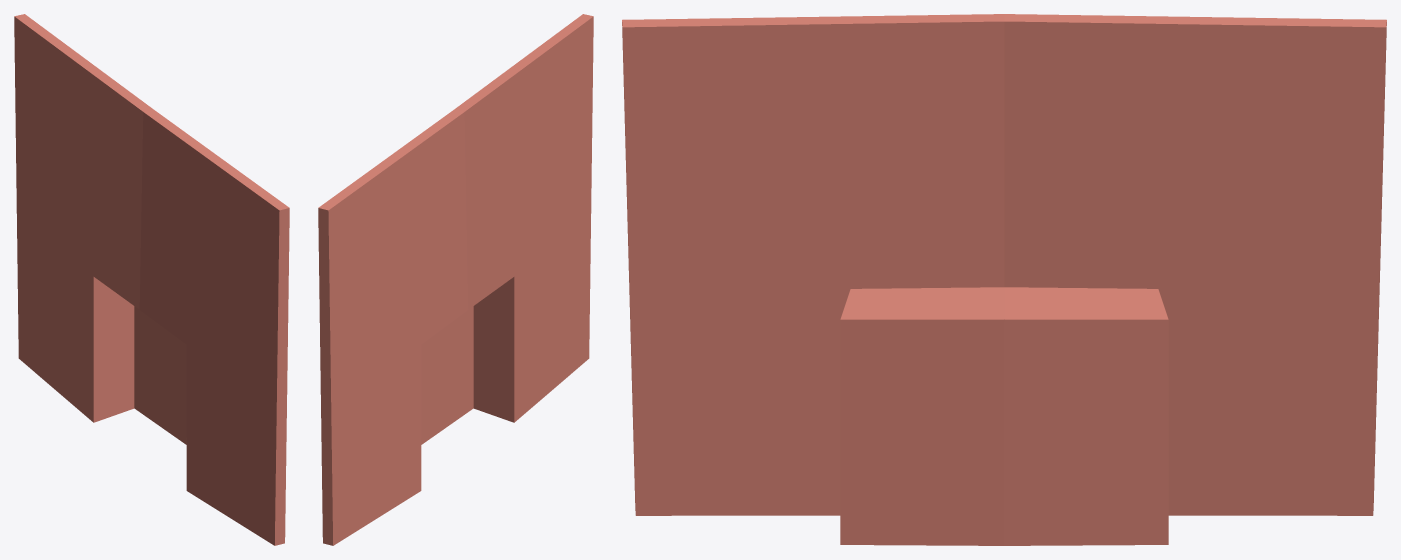
File: window main.fbx
3 renders of one model, left to right at view 1: azimuth 30°, elevation 25°; view 2: azimuth 150°, elevation 25°; view 3: azimuth 270°, elevation 25°, orthographic. The views are drawn at different scales.
Parts seen in each view (by area): view 1: main build.001; view 2: main build.001; view 3: main build.001.
Part boxes in pixels (bbox=[...]): main build.001: bbox=[14, 14, 289, 545]; main build.001: bbox=[318, 14, 593, 545]; main build.001: bbox=[622, 14, 1386, 545].
Size of the model in its own units: 403 by 2339 by 3268.
